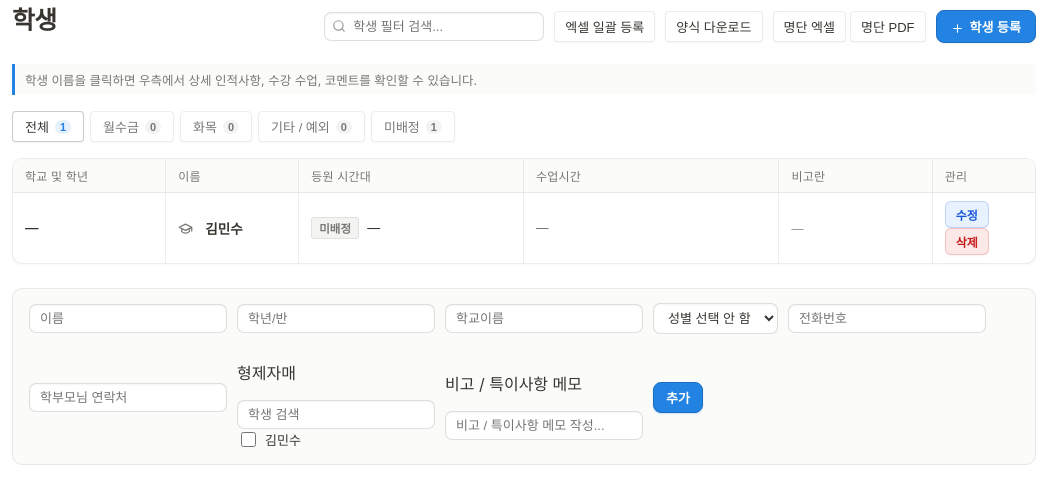
Test: StudentsPage › renders schedule pattern filter tabs (전체, 월수금, 화목, 기타 / 예외, 미배정)
Expected: the text "전체" is shown, top-left (25, 117), bottom-right (49, 136)
Expected: the text "월수금" is shown, top-left (103, 117), bottom-right (139, 136)
Note: Clicking filter tab
Click the text "화목". click: [205, 126]
box: top-left (193, 117), bottom-right (217, 136)
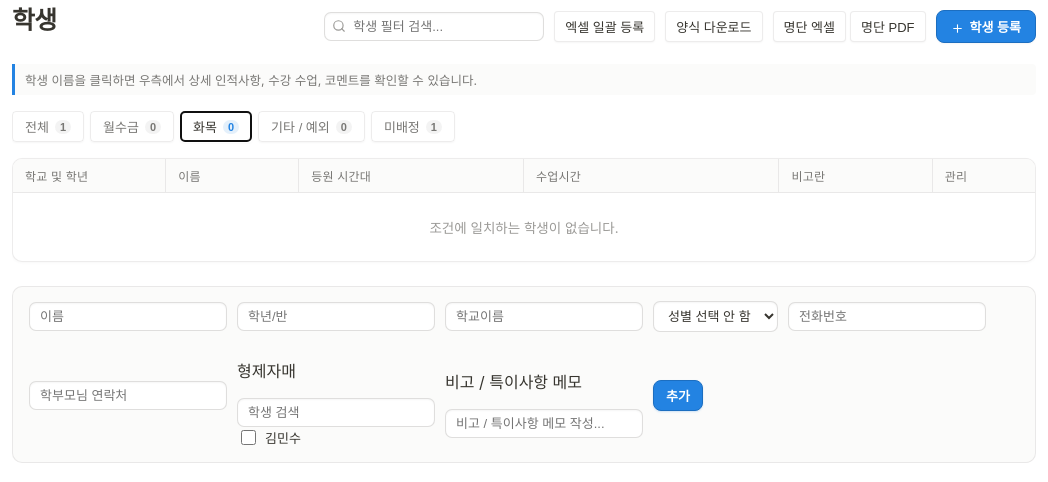
Expected: the text "조건에 일치하는 학생이 없습니다." is shown, top-left (13, 193), bottom-right (1035, 261)
Note: Clicking '미배정' tab should show the student again
Click the text "미배정". click: [402, 126]
box: top-left (384, 117), bottom-right (420, 136)
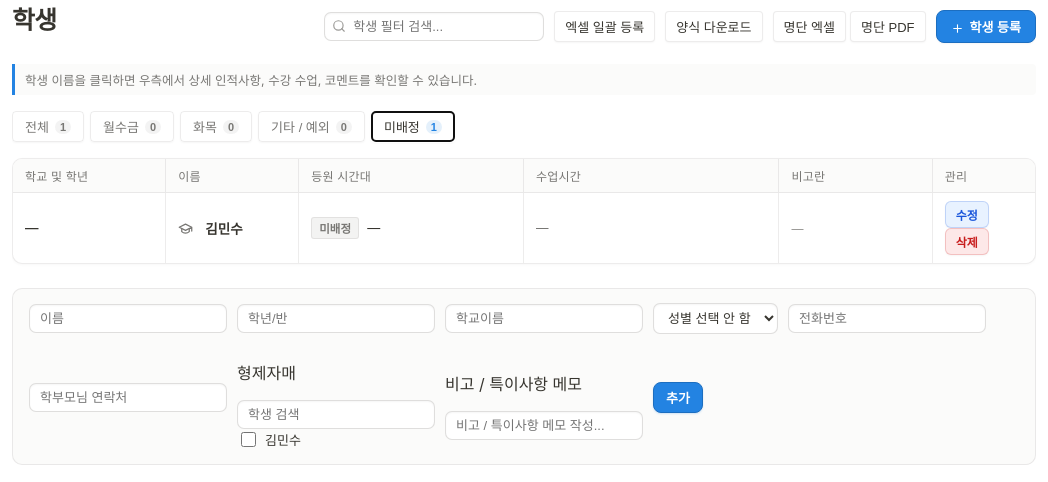
Expected: the text "김민수" is shown, top-left (205, 218), bottom-right (243, 238)
